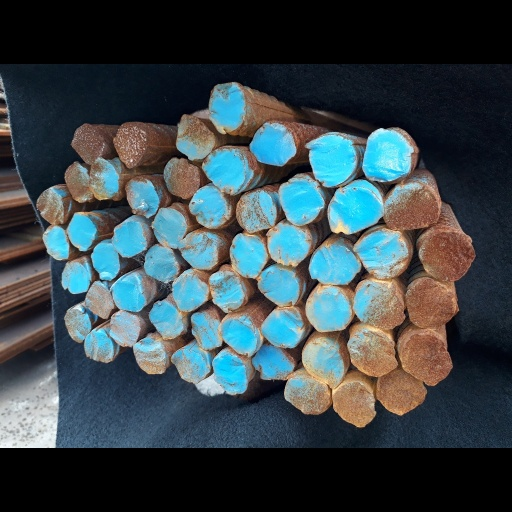dipstick: (420, 234, 475, 280), (353, 282, 406, 329), (362, 129, 410, 180), (402, 335, 452, 383), (328, 189, 384, 231), (359, 231, 409, 278), (407, 281, 458, 327), (383, 186, 438, 228), (310, 138, 357, 186), (348, 330, 396, 374), (305, 287, 351, 332), (377, 374, 429, 413), (204, 148, 248, 192), (279, 181, 324, 224), (250, 122, 296, 164), (334, 383, 376, 427), (209, 83, 246, 131), (235, 190, 277, 232), (303, 342, 344, 384), (267, 225, 310, 265), (176, 114, 214, 158), (286, 378, 330, 414), (231, 234, 267, 278), (258, 269, 300, 306), (262, 308, 302, 346), (193, 186, 229, 228), (209, 271, 245, 311), (173, 271, 208, 312), (164, 158, 200, 197), (115, 124, 147, 167), (222, 319, 259, 355), (183, 230, 218, 268), (125, 176, 158, 216), (254, 349, 295, 380), (149, 300, 182, 338), (173, 349, 209, 383), (89, 158, 118, 200), (153, 209, 185, 246), (73, 123, 104, 161), (214, 355, 247, 390), (114, 220, 146, 256), (191, 312, 222, 349), (134, 340, 165, 375), (35, 187, 64, 224), (112, 279, 145, 311), (91, 245, 119, 282), (65, 161, 89, 203), (68, 213, 95, 250), (145, 247, 175, 280), (110, 313, 139, 347), (87, 280, 113, 317), (61, 261, 90, 292), (42, 227, 68, 259), (85, 332, 112, 362), (65, 309, 90, 341)
